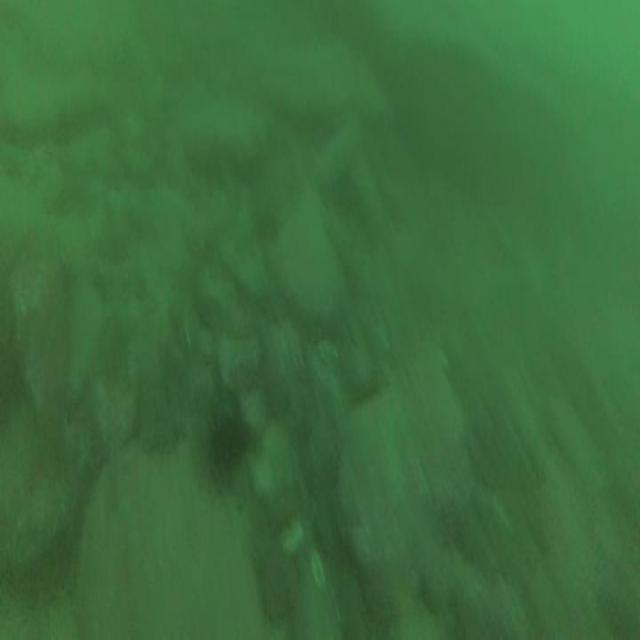echinus: (207, 403, 253, 485)
